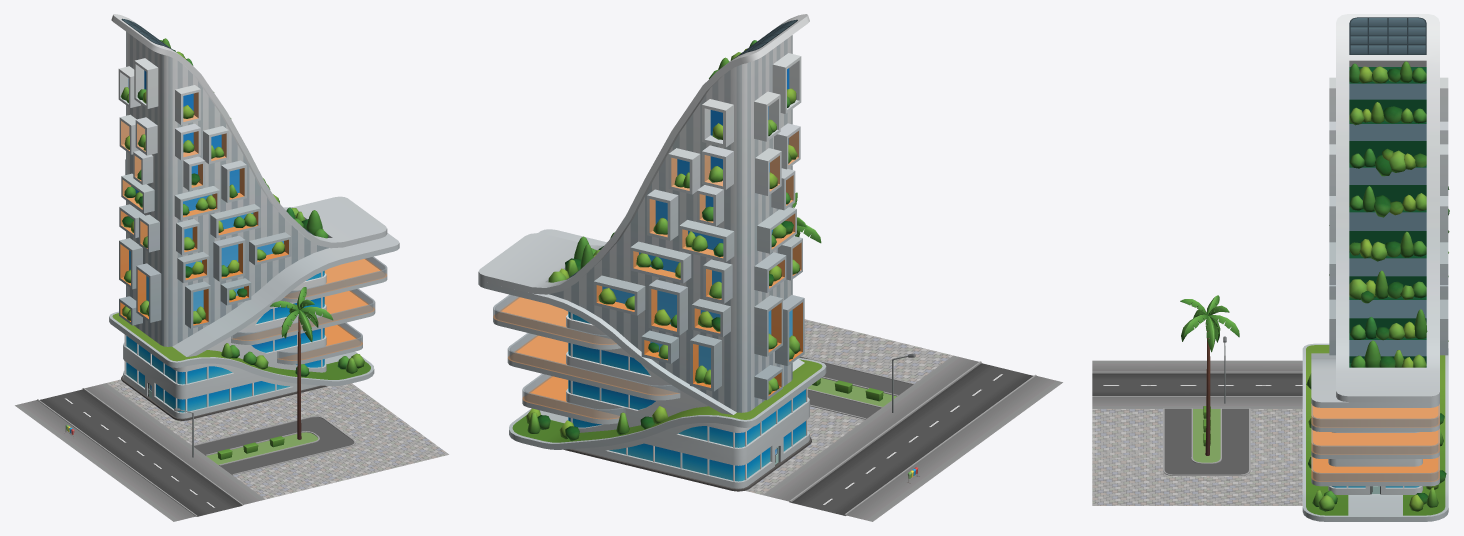
The model's file is south-central-west.gltf.
The picture shows the model from 3 angles, left to right: view 1: azimuth 30°, elevation 25°; view 2: azimuth 150°, elevation 25°; view 3: azimuth 270°, elevation 25°; orthographic projection. The views are drawn at different scales.
Visible parts, largest first — view 1: Eco_Building_Slope.005, road_009.235, Set_B_Tiles_06.008, road_009.236, road_009.237, Set_B_Tiles_05.013, Set_B_Tiles_06.009, Set_B_Tiles_05.015, Palm_03.067, Set_B_Tiles_09.023; view 2: Eco_Building_Slope.005, road_009.235, road_009.236, road_009.237, Set_B_Tiles_05.013, Set_B_Tiles_05.015, Set_B_Tiles_09.023, Set_B_Tiles_06.008; view 3: Eco_Building_Slope.005, Set_B_Tiles_06.008, road_009.235, Set_B_Tiles_05.013, Set_B_Tiles_06.009, road_009.236, Set_B_Tiles_05.015, Palm_03.067.
Boxes of the visible parts, <box> form: Eco_Building_Slope.005: <box>109,14,399,420</box>; road_009.235: <box>121,460,265,521</box>; Set_B_Tiles_06.008: <box>305,416,448,476</box>; road_009.236: <box>68,422,211,482</box>; road_009.237: <box>15,383,158,444</box>; Set_B_Tiles_05.013: <box>213,438,356,499</box>; Set_B_Tiles_06.009: <box>257,383,395,438</box>; Set_B_Tiles_05.015: <box>160,403,303,460</box>; Palm_03.067: <box>270,287,333,439</box>; Set_B_Tiles_09.023: <box>107,379,172,421</box>; Eco_Building_Slope.005: <box>478,14,826,491</box>; road_009.235: <box>890,355,1062,428</box>; road_009.236: <box>826,402,999,475</box>; road_009.237: <box>763,448,935,521</box>; Set_B_Tiles_05.013: <box>803,328,952,401</box>; Set_B_Tiles_05.015: <box>807,385,889,448</box>; Set_B_Tiles_09.023: <box>745,444,825,494</box>; Set_B_Tiles_06.008: <box>799,319,842,358</box>; Eco_Building_Slope.005: <box>1302,14,1449,521</box>; Set_B_Tiles_06.008: <box>1092,457,1206,505</box>; road_009.235: <box>1092,360,1206,408</box>; Set_B_Tiles_05.013: <box>1092,408,1206,457</box>; Set_B_Tiles_06.009: <box>1207,457,1302,505</box>; road_009.236: <box>1210,360,1302,408</box>; Set_B_Tiles_05.015: <box>1207,408,1302,457</box>; Palm_03.067: <box>1180,295,1239,455</box>.
Bounding box in the file's own units: 53.96 × 57.49 × 46.79.
Materials: 8 (6 with a texture image).
